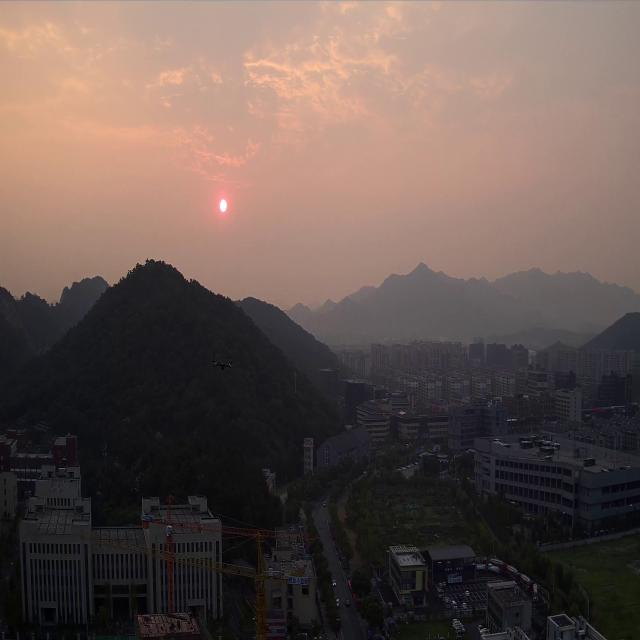UAV: (209, 358, 235, 370)
